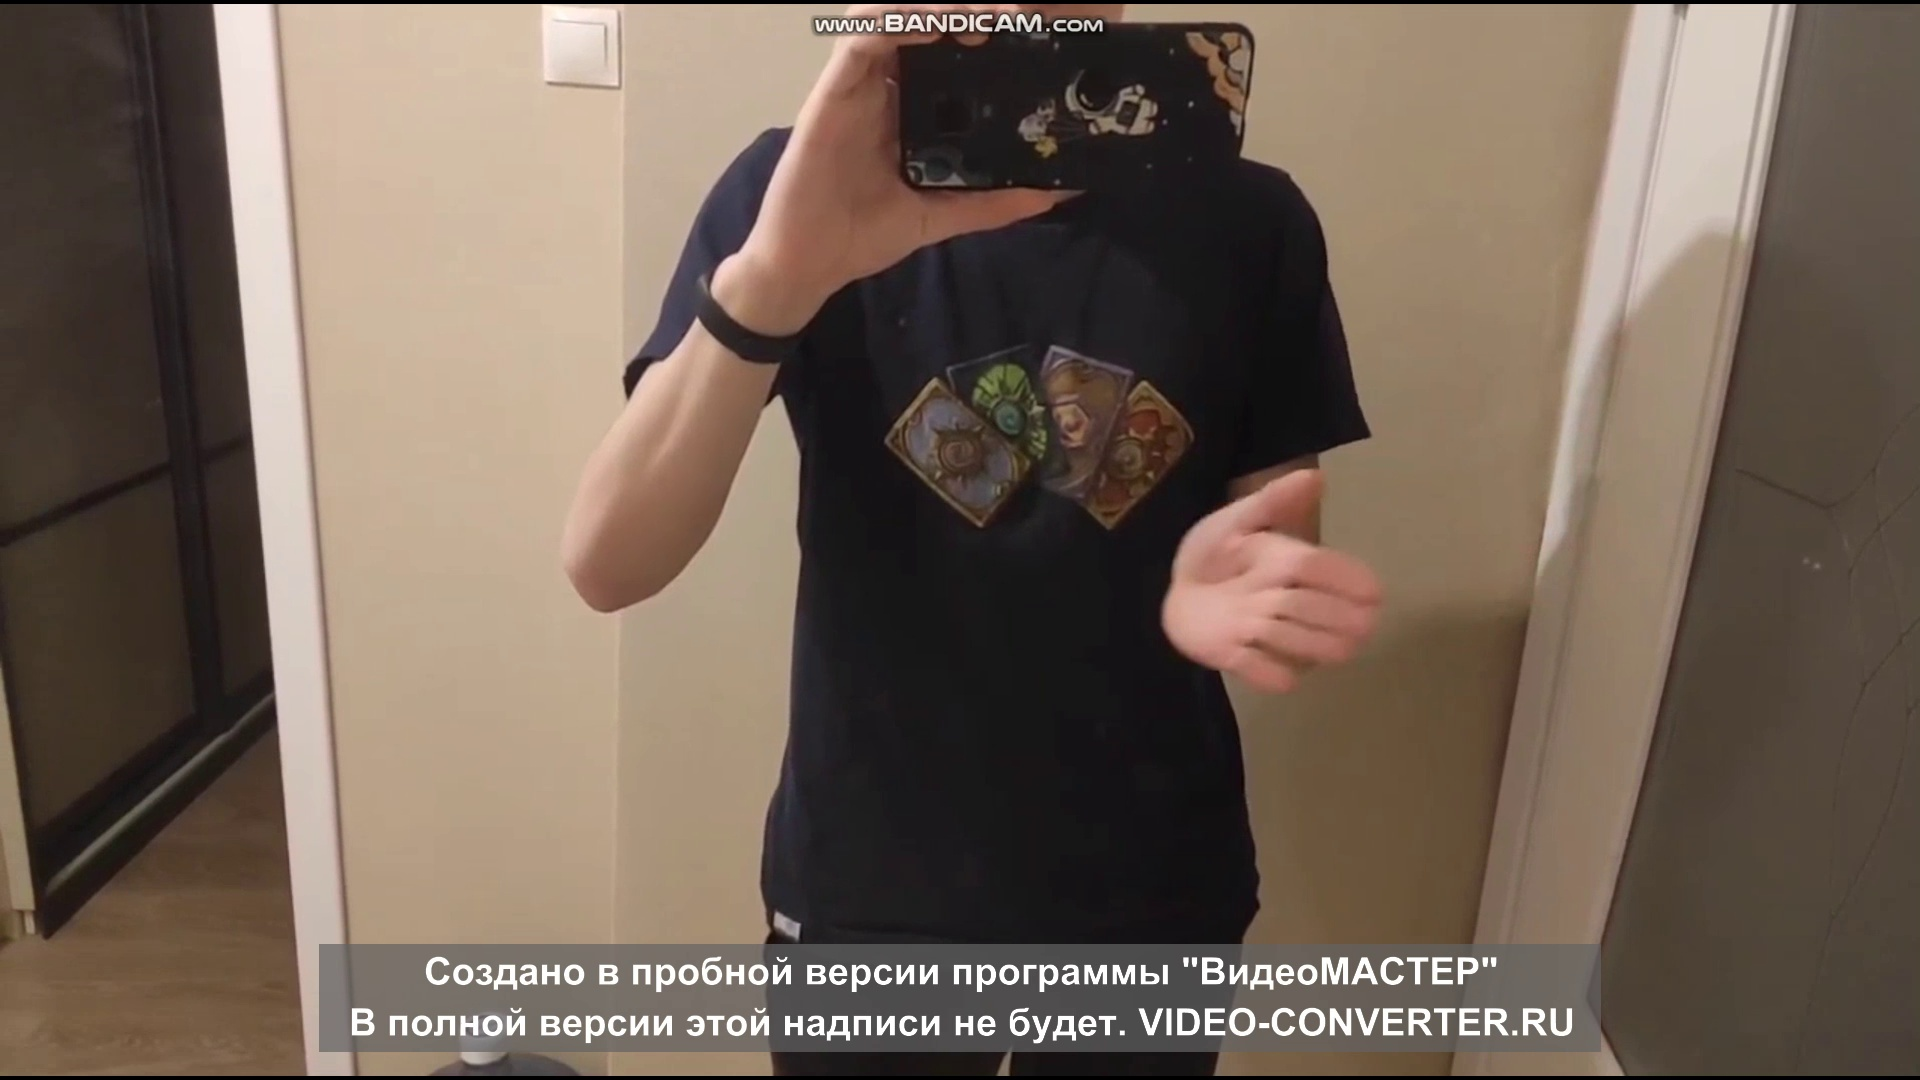Ладонь: (1160, 465, 1382, 691)
